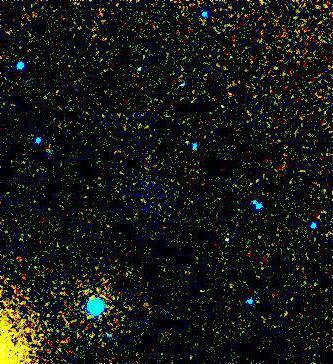star: (127, 111, 157, 141)
